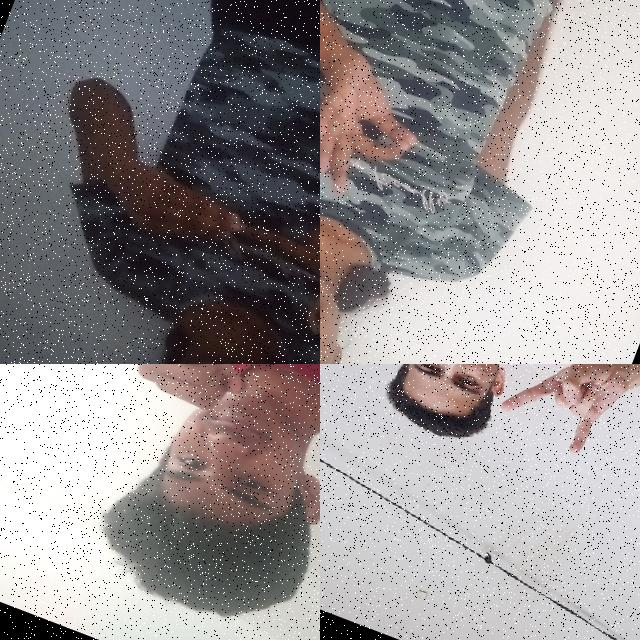Corna: (487, 364, 640, 472)
Fist Mouth: (30, 364, 320, 640)
Five Fathers: (70, 118, 320, 364)
Okay: (320, 21, 456, 215)
